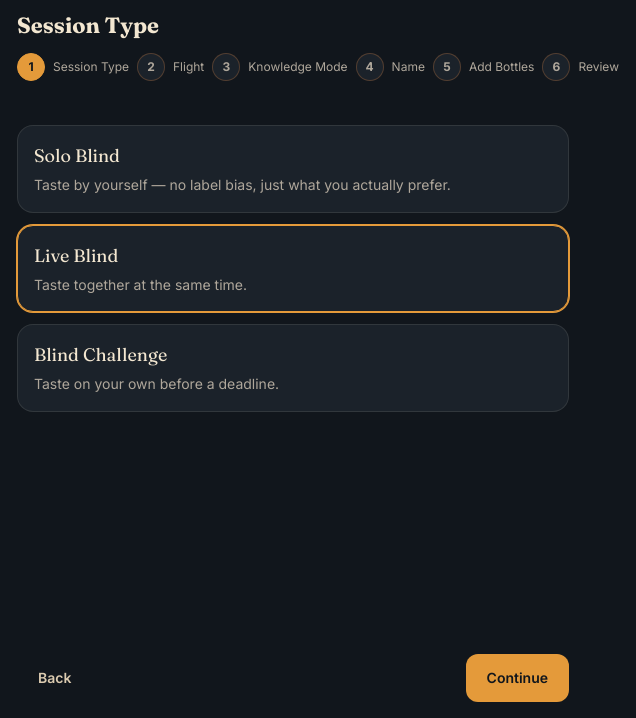
Test case: CreateBlindPage › defaults Head-to-Head to 2 pours and Flight to 3
Click the button "Continue". click: click(517, 678)
box: [466, 654, 569, 702]
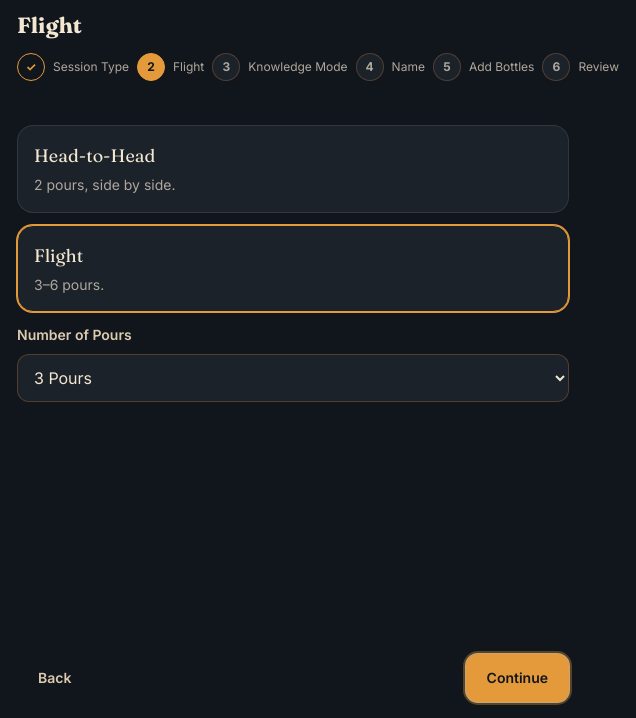
Click the button "Head-to-Head 2 pours, side by side.". click: click(95, 156)
box: [17, 125, 569, 213]
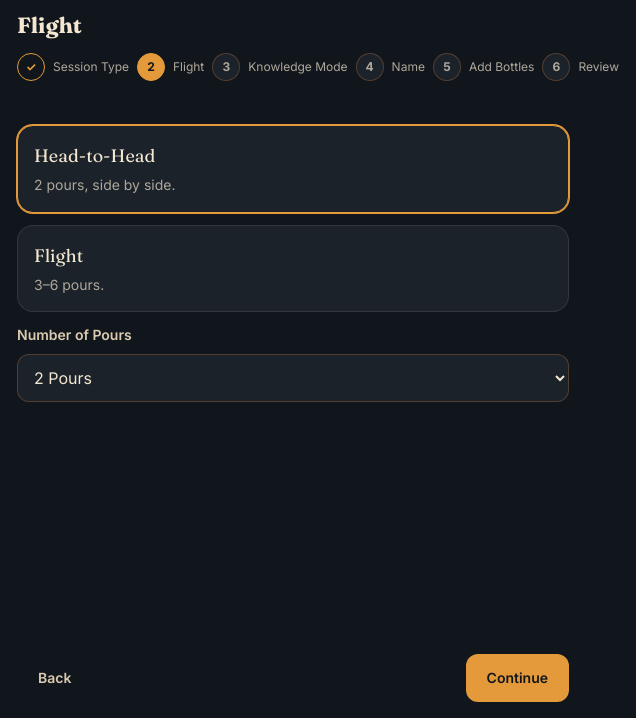
expect the dropdown labelled "Number of Pours" shows "2 Pours": met, box [17, 354, 569, 402]
Click the button "Flight 3–6 pours.". click: click(59, 255)
box: [17, 225, 569, 312]
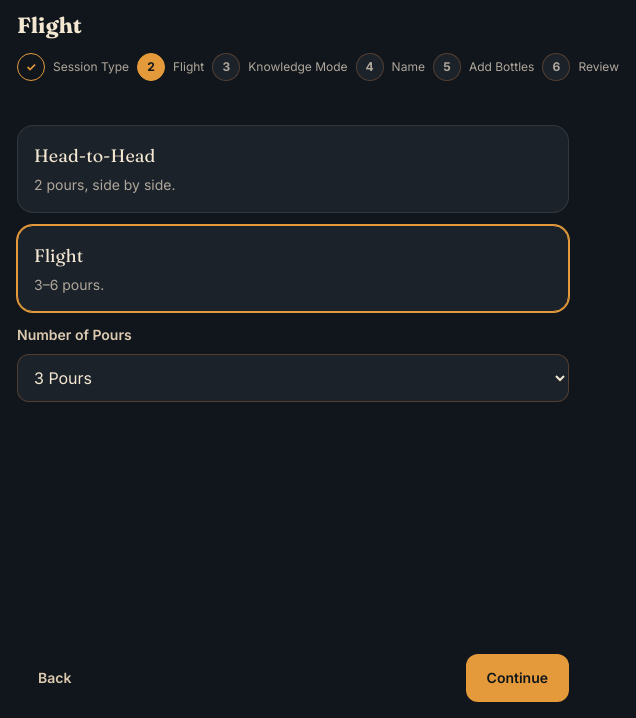
expect the dropdown labelled "Number of Pours" shows "3 Pours": met, box [17, 354, 569, 402]
